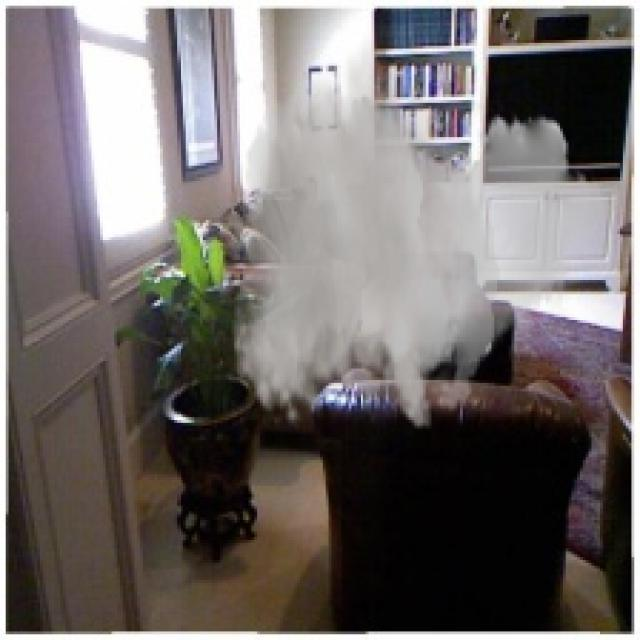smoke: (232, 29, 617, 432)
